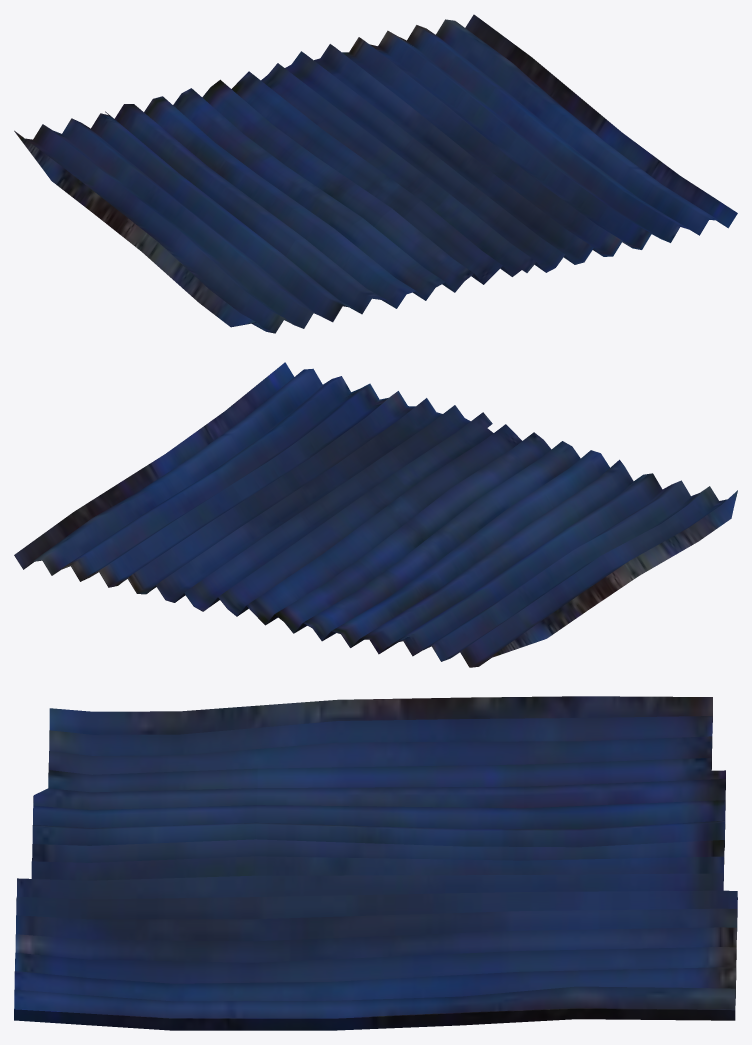
The model's file is Metal_Sheet_05.glb.
3 renders of one model, top to bottom at view 1: azimuth 30°, elevation 25°; view 2: azimuth 150°, elevation 25°; view 3: azimuth 270°, elevation 25°, orthographic. The views are drawn at different scales.
Parts seen in each view (by area): view 1: Metal_Sheet_05; view 2: Metal_Sheet_05; view 3: Metal_Sheet_05.
Part boxes in pixels (<box>): Metal_Sheet_05: <box>14,14,737,333</box>; Metal_Sheet_05: <box>14,362,737,667</box>; Metal_Sheet_05: <box>14,696,737,1030</box>.
Bounding box in the file's own units: 3.09 × 0.2068 × 2.99.
Materials: 1 (1 with a texture image).
